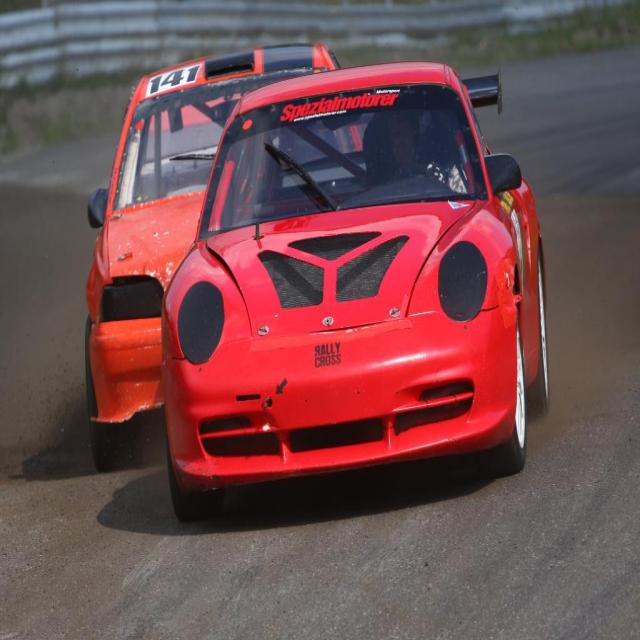car: (152, 56, 555, 475)
